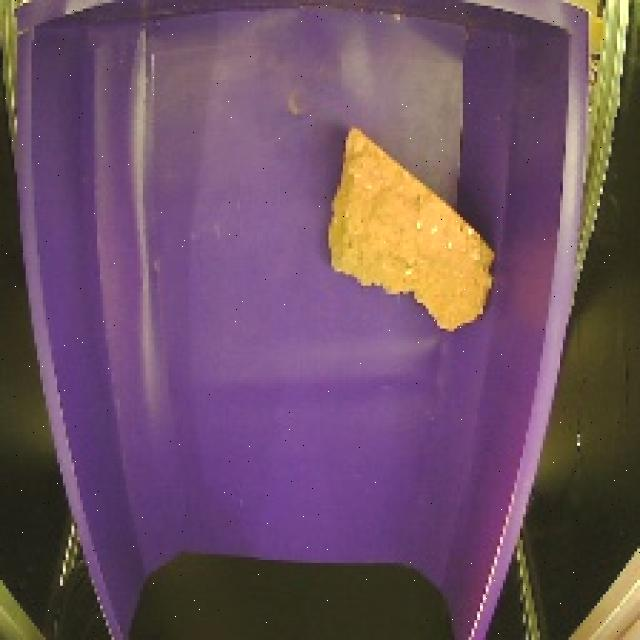brick: (316, 124, 505, 342)
